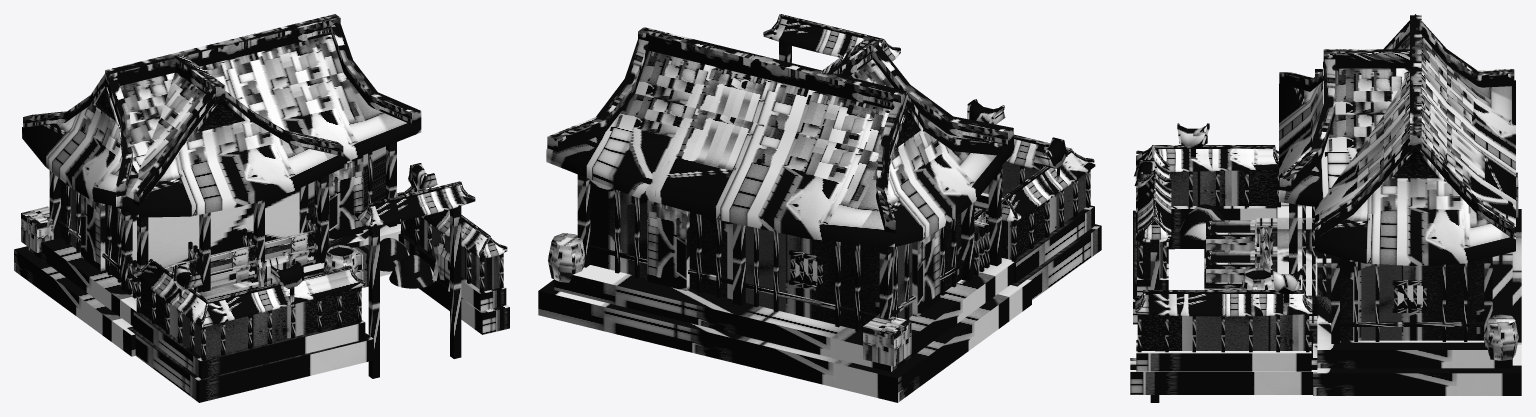
The model's file is stable.dae.
The picture shows the model from 3 angles, left to right: view 1: azimuth 30°, elevation 25°; view 2: azimuth 150°, elevation 25°; view 3: azimuth 270°, elevation 25°; orthographic projection. The views are drawn at different scales.
Parts seen in each view (by area): view 1: stable; view 2: stable; view 3: stable.
Part boxes in pixels (x1=…): stable: x1=14, y1=14, x2=509, y2=402; stable: x1=538, y1=14, x2=1101, y2=402; stable: x1=1130, y1=14, x2=1521, y2=402.
Bounding box in the file's own units: 19.99 × 20.13 × 15.2.
1 material, 1 textured.
